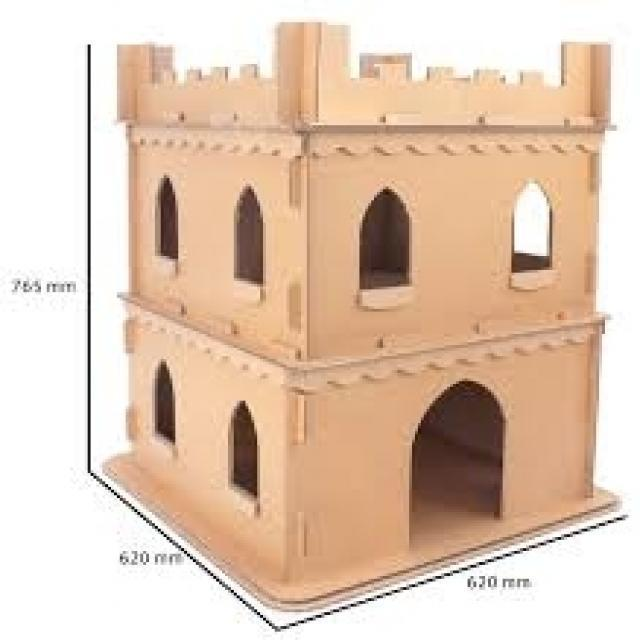cardboard paper: (91, 21, 608, 604)
